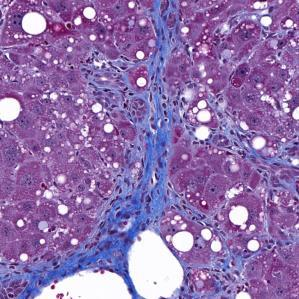fibrosis: (127, 80, 172, 230), (147, 11, 183, 82), (217, 112, 262, 160), (89, 228, 128, 268)
